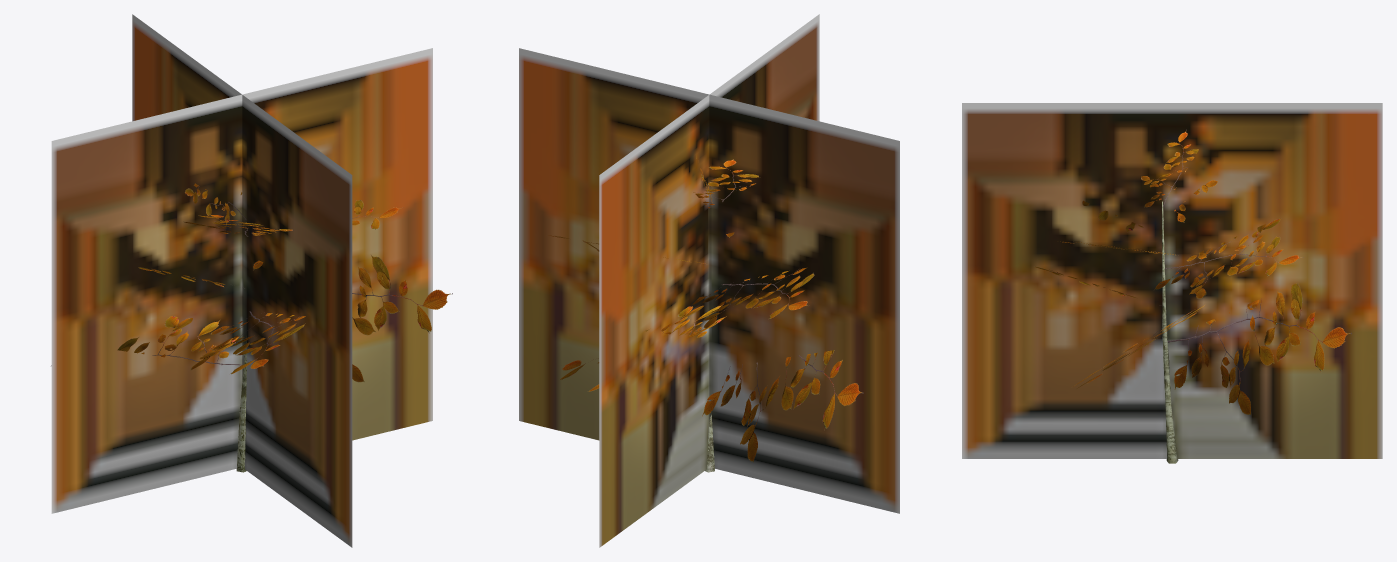
Rendered from Tree-Beech5C.fbx.
3 views of the same model, side by side, from view 1: azimuth 30°, elevation 25°; view 2: azimuth 150°, elevation 25°; view 3: azimuth 270°, elevation 25° (orthographic). The views are drawn at different scales.
Visible parts, largest first — view 1: Billboard-BeechC, Tree-Beech5C_LOD0; view 2: Billboard-BeechC, Tree-Beech5C_LOD0; view 3: Billboard-BeechC, Tree-Beech5C_LOD0.
Boxes of the visible parts, bbox=[...] form: Billboard-BeechC: bbox=[51, 14, 432, 547]; Tree-Beech5C_LOD0: bbox=[51, 183, 452, 472]; Billboard-BeechC: bbox=[519, 14, 899, 547]; Tree-Beech5C_LOD0: bbox=[547, 155, 863, 472]; Billboard-BeechC: bbox=[962, 103, 1382, 458]; Tree-Beech5C_LOD0: bbox=[1034, 129, 1351, 463].
Size of what is drawn, in the model's own units: 709 by 667 by 714.
